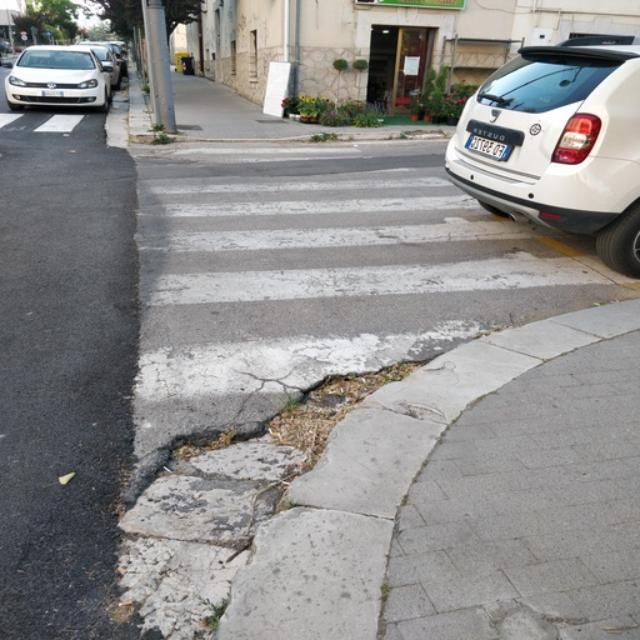sidewalk: (130, 140, 640, 405)
